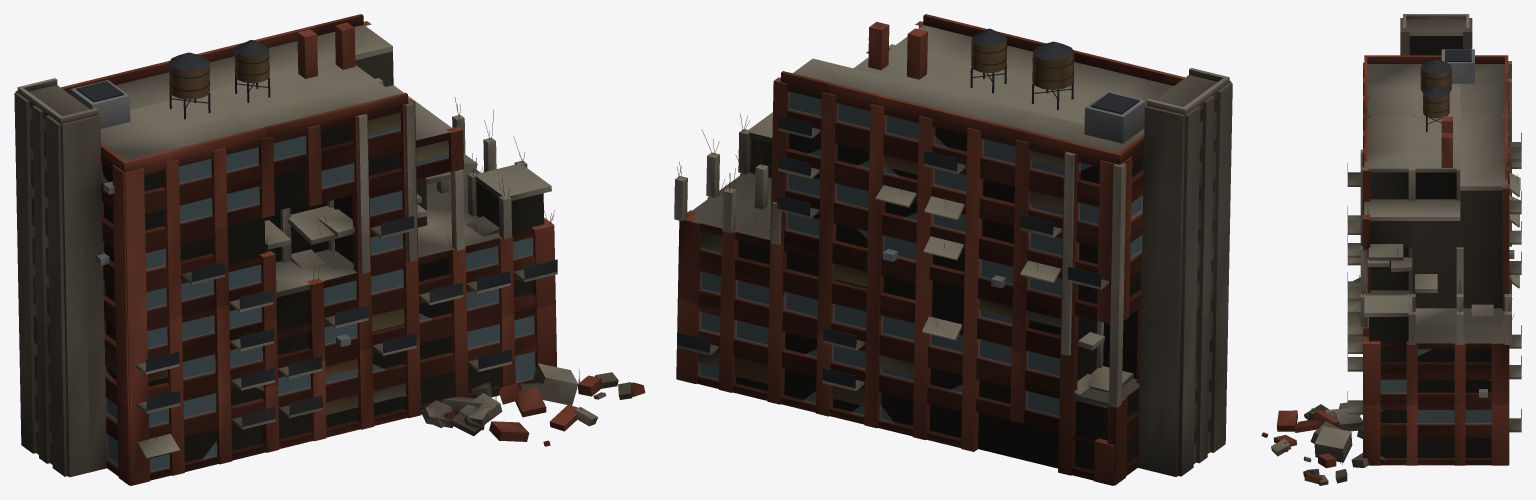
Rendered from ruin_apartment_a.glb.
3 views of the same model, side by side, from view 1: azimuth 30°, elevation 25°; view 2: azimuth 150°, elevation 25°; view 3: azimuth 270°, elevation 25° (orthographic). The views are drawn at different scales.
Parts seen in each view (by area): view 1: brick, concrete_dark, concrete, glass, metal_dark, canvas, wood, metal_bare; view 2: brick, concrete_dark, concrete, glass, metal_dark, canvas, metal_bare, wood; view 3: concrete, concrete_dark, brick, metal_dark, glass, wood, metal_bare, rebar.
Boxes of the visible parts, <box> form: brick: <box>60,14,645,485</box>; concrete_dark: <box>14,51,632,477</box>; concrete: <box>17,25,631,464</box>; glass: <box>101,125,535,472</box>; metal_dark: <box>76,40,557,426</box>; canvas: <box>105,112,448,414</box>; wood: <box>169,50,269,99</box>; metal_bare: <box>70,80,350,346</box>; brick: <box>676,14,1185,485</box>; concrete_dark: <box>700,75,1232,476</box>; concrete: <box>674,21,1229,463</box>; glass: <box>698,91,1142,423</box>; metal_dark: <box>677,28,1139,388</box>; canvas: <box>698,150,1064,406</box>; metal_bare: <box>882,91,1145,288</box>; wood: <box>971,39,1074,89</box>; concrete: <box>1271,14,1521,485</box>; concrete_dark: <box>1303,18,1502,483</box>; brick: <box>1261,55,1509,484</box>; metal_dark: <box>1347,49,1521,420</box>; glass: <box>1381,349,1491,458</box>; wood: <box>1420,67,1451,118</box>; metal_bare: <box>1358,49,1514,397</box>; rebar: <box>1313,174,1517,464</box>.
Size of what is drawn, in the model's own units: 42.16 by 28.8 by 23.47.
